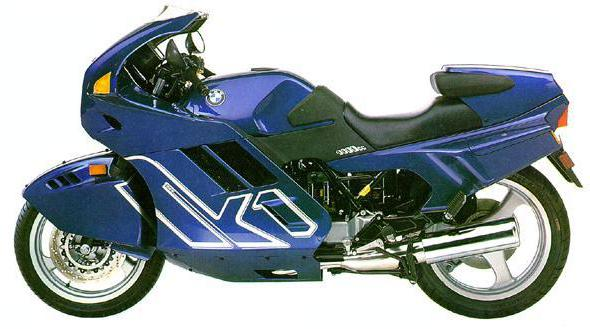motorcycle: (2, 1, 590, 323)
